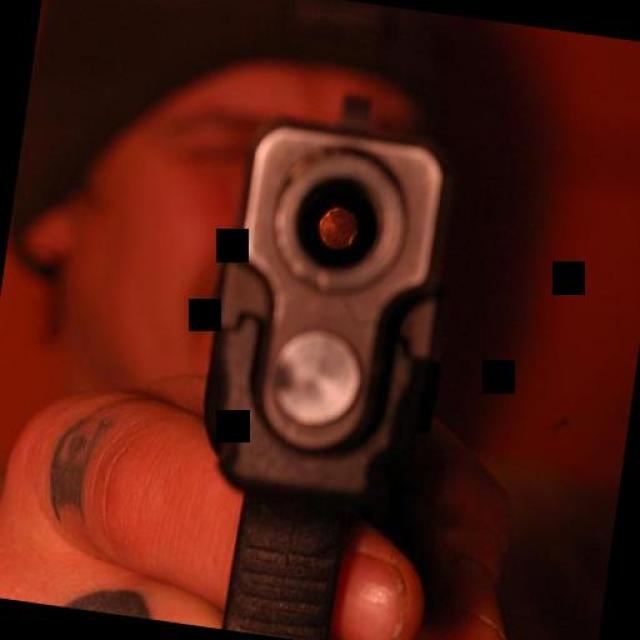gun: (174, 66, 475, 640)
